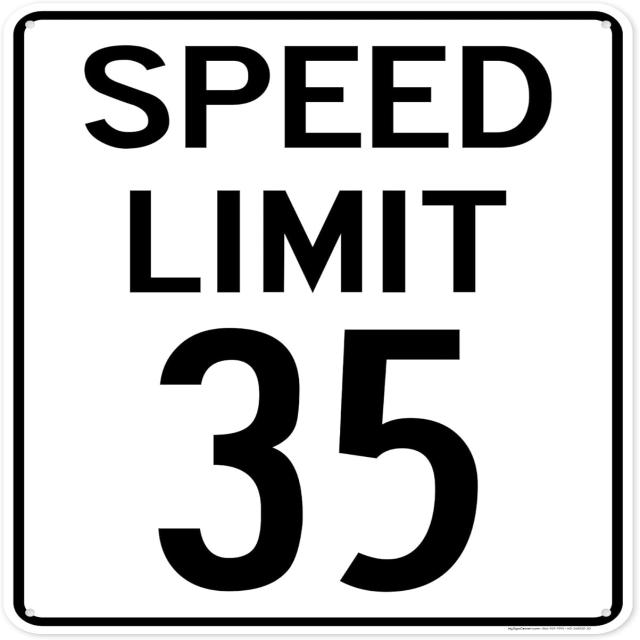speedLimit35: (6, 4, 634, 635)
